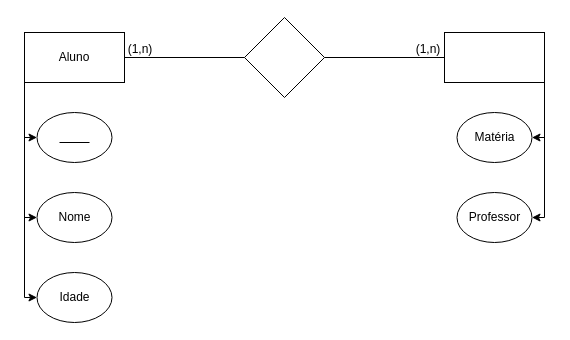
Some shapes in this 570 by 340 pixel diagram are drawn without their labels. The shapes that lost their labels are listed below. From the top down, each one's centre as x and y in pixels, then its label:
At pixel 284 57: "matriculado".
At pixel 494 57: "Curso".
At pixel 74 137: "ID".
